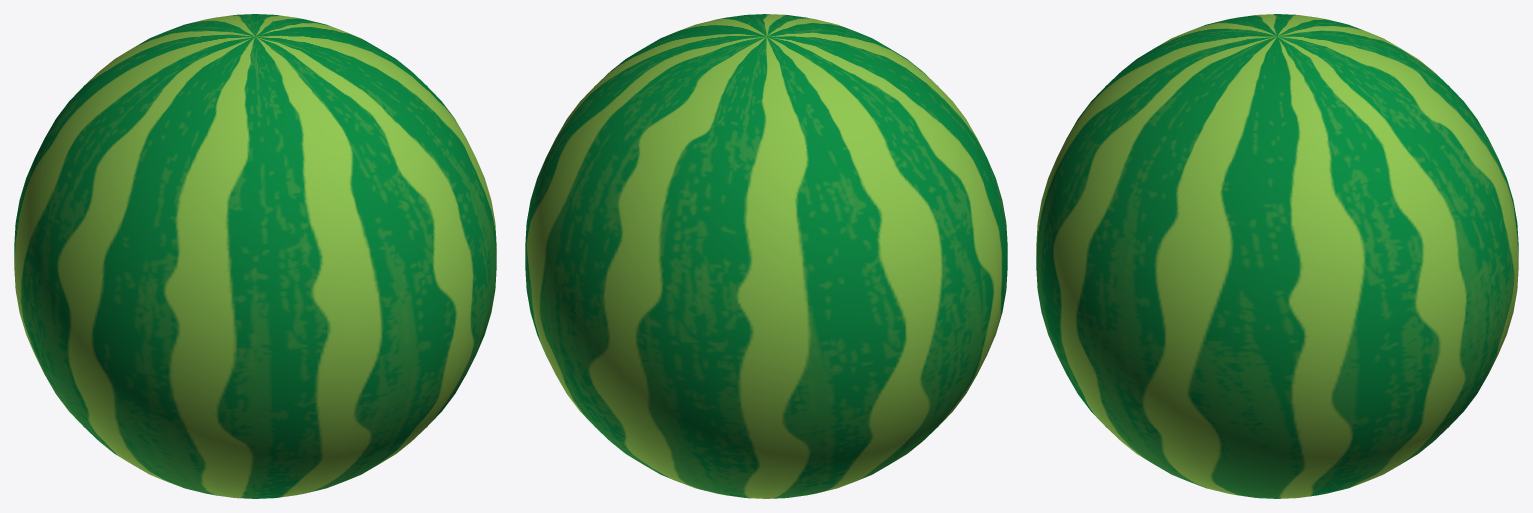
The model's file is ball1.fbx.
3 renders of one model, left to right at view 1: azimuth 30°, elevation 25°; view 2: azimuth 150°, elevation 25°; view 3: azimuth 270°, elevation 25°, orthographic.
Visible parts, largest first — view 1: SolidSphere; view 2: SolidSphere; view 3: SolidSphere.
Boxes of the visible parts, left/top/right/bottom form: SolidSphere: left=14, top=14, right=496, bottom=498; SolidSphere: left=525, top=14, right=1007, bottom=498; SolidSphere: left=1036, top=14, right=1518, bottom=498.
Bounding box in the file's own units: 100 × 100 × 99.48.
